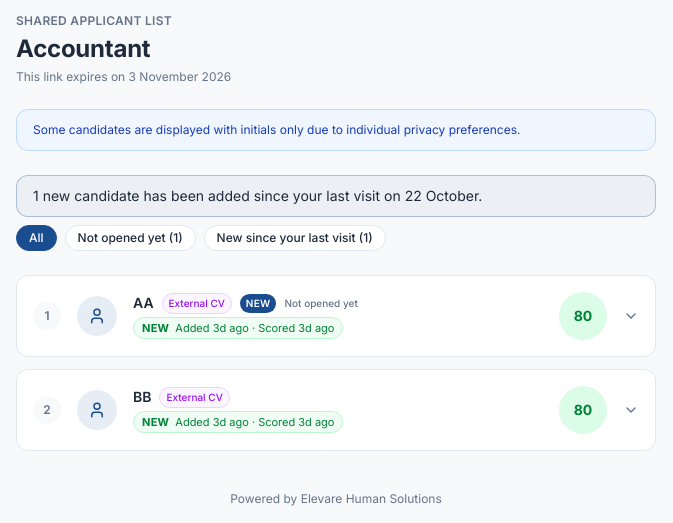
SharedApplicantsPage, what has been opened › tells someone who is back what was added since their last visit, and offers a tab for only those
Expected: the text "1 new candidate has been added since your last visit on" is shown, left=16, top=175, right=656, bottom=217
Expected: the number of elements with test id "new-since-badge" is 1, left=240, top=294, right=276, bottom=313
Click the tab "New since your last visit (1)" at [295, 238], box left=204, top=225, right=386, bottom=251
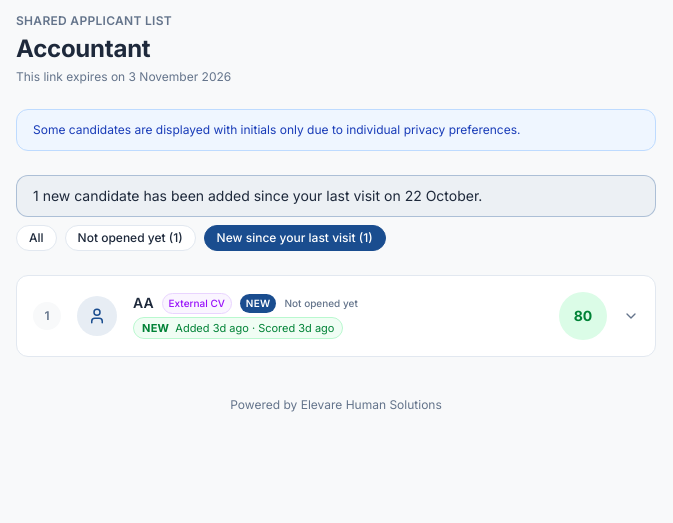
Expected: the text "AA" is shown, left=133, top=293, right=154, bottom=313
Expected: the text "BB" is gone
